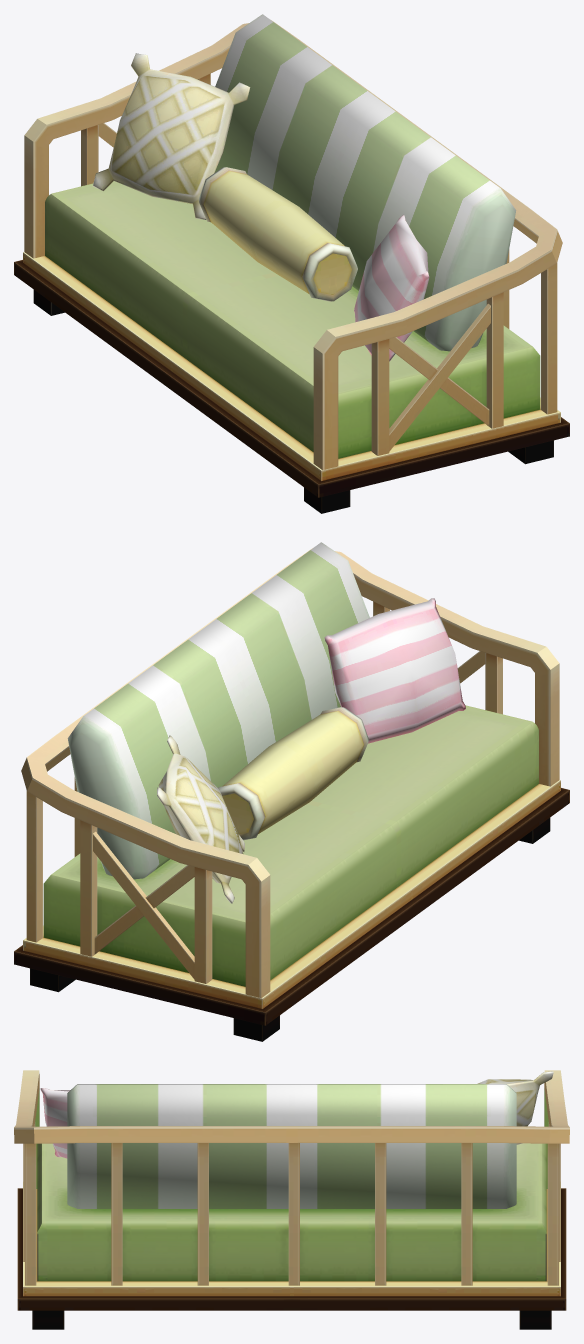
The model's file is my_sunshineresort_01_sofa_01.glb.
3 views of the same model, one above another, from view 1: azimuth 30°, elevation 25°; view 2: azimuth 150°, elevation 25°; view 3: azimuth 270°, elevation 25° (orthographic). The views are drawn at different scales.
Parts seen in each view (by area): view 1: my_sunshineresort_01_sofa_01; view 2: my_sunshineresort_01_sofa_01; view 3: my_sunshineresort_01_sofa_01.
Part boxes in pixels (x1,y1,x2,y2): my_sunshineresort_01_sofa_01: (14, 14, 569, 513); my_sunshineresort_01_sofa_01: (14, 542, 569, 1041); my_sunshineresort_01_sofa_01: (14, 1070, 569, 1329).
Size of the model in its own units: 0.00566 by 0.00549 by 0.0119.
1 material, 1 textured.
